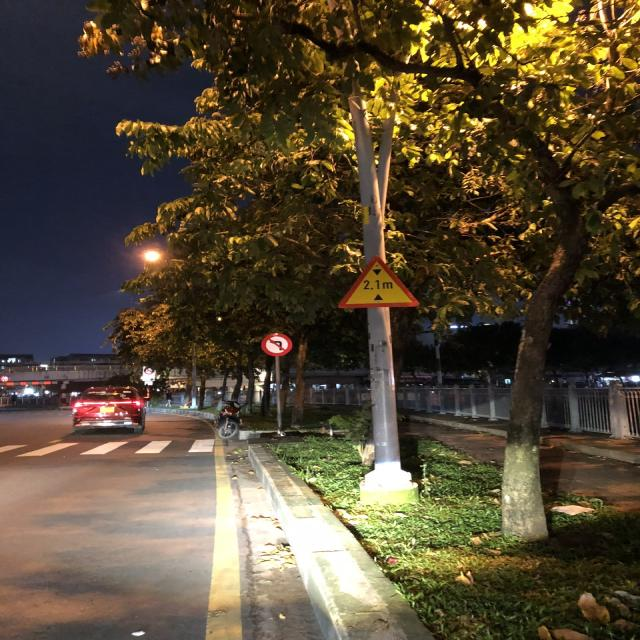Bien bao cam re trai: (258, 330, 294, 359)
Bien bao chieu cao tinh khong thuc te: (332, 252, 431, 313)
